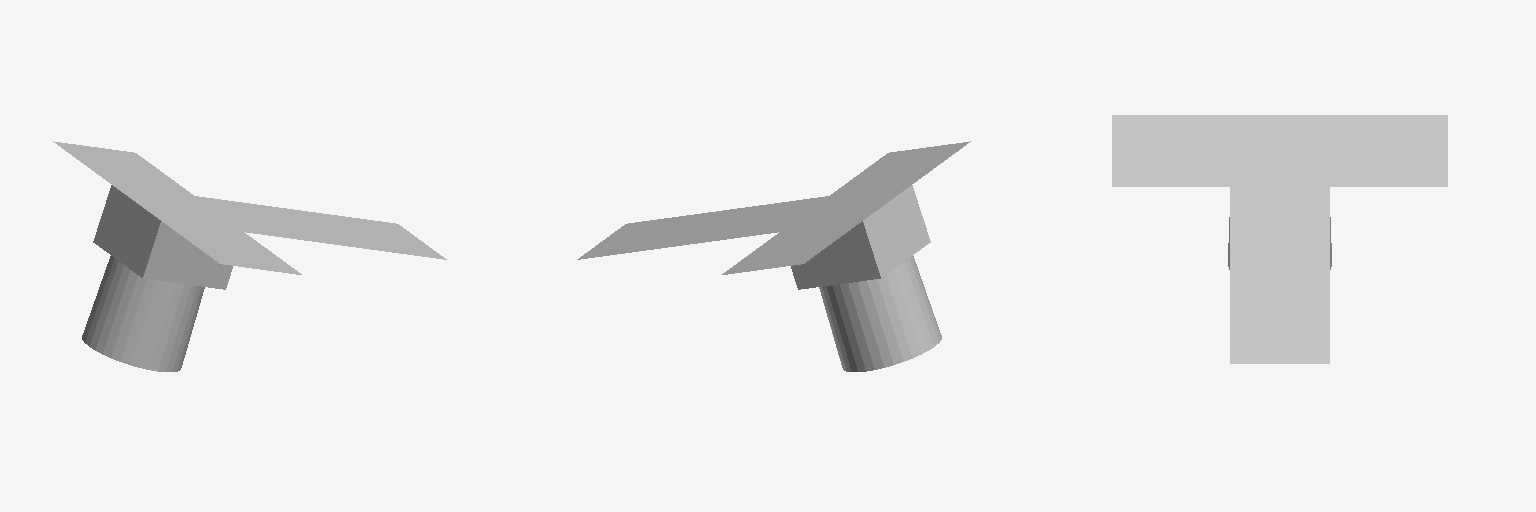
The model's file is straight_combined_LAMP_backward_total.obj.
The picture shows the model from 3 angles: view 1: azimuth 30°, elevation 25°; view 2: azimuth 150°, elevation 25°; view 3: azimuth 270°, elevation 25°; orthographic projection.
Parts seen in each view (by area): view 1: 27U_combined_case_straight_solar.001; view 2: 27U_combined_case_straight_solar.001; view 3: 27U_combined_case_straight_solar.001.
Part boxes in pixels (x1,y1,x2,y2): 27U_combined_case_straight_solar.001: (53, 141, 446, 371); 27U_combined_case_straight_solar.001: (577, 141, 970, 371); 27U_combined_case_straight_solar.001: (1112, 115, 1447, 363).
Bounding box in the file's own units: 1.36 × 0.6413 × 1.18.